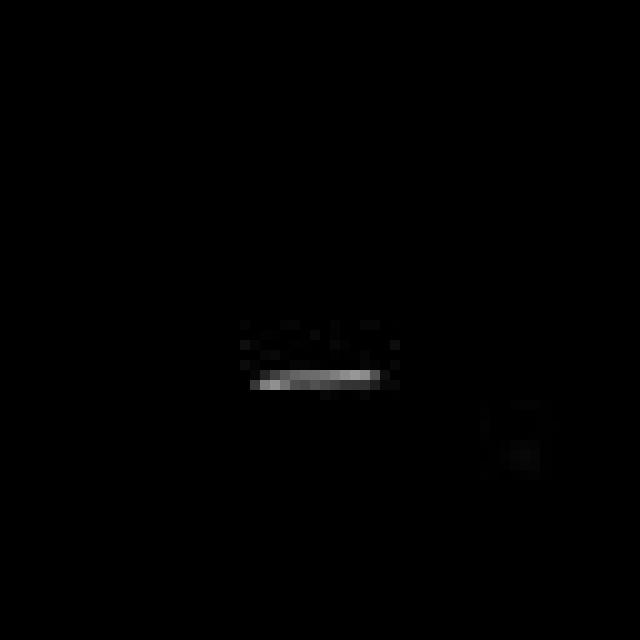1 -one-: (247, 353, 386, 398)
